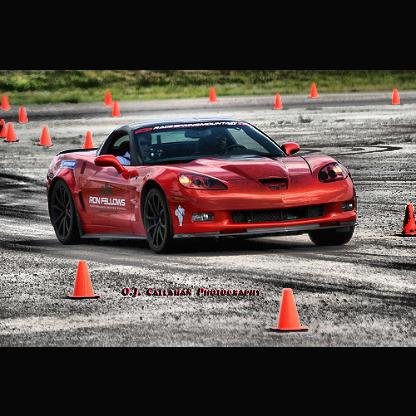Chevrolet Corvette ZR1 2012: (47, 120, 359, 253)
